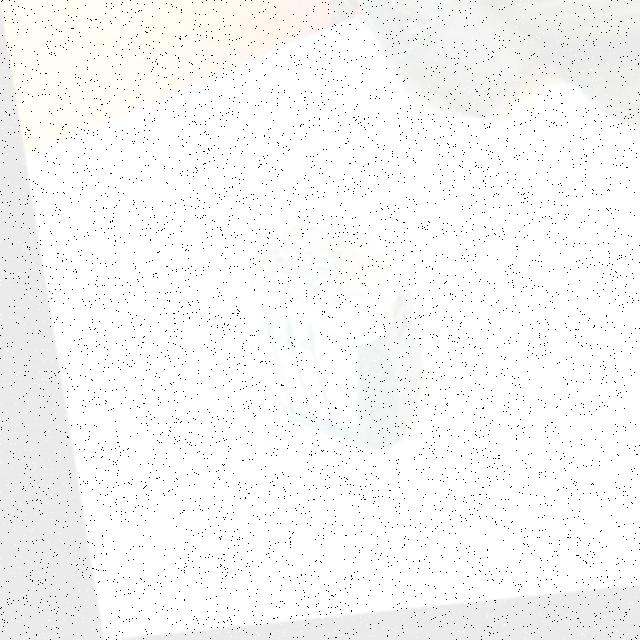adapter: (224, 218, 422, 464)
